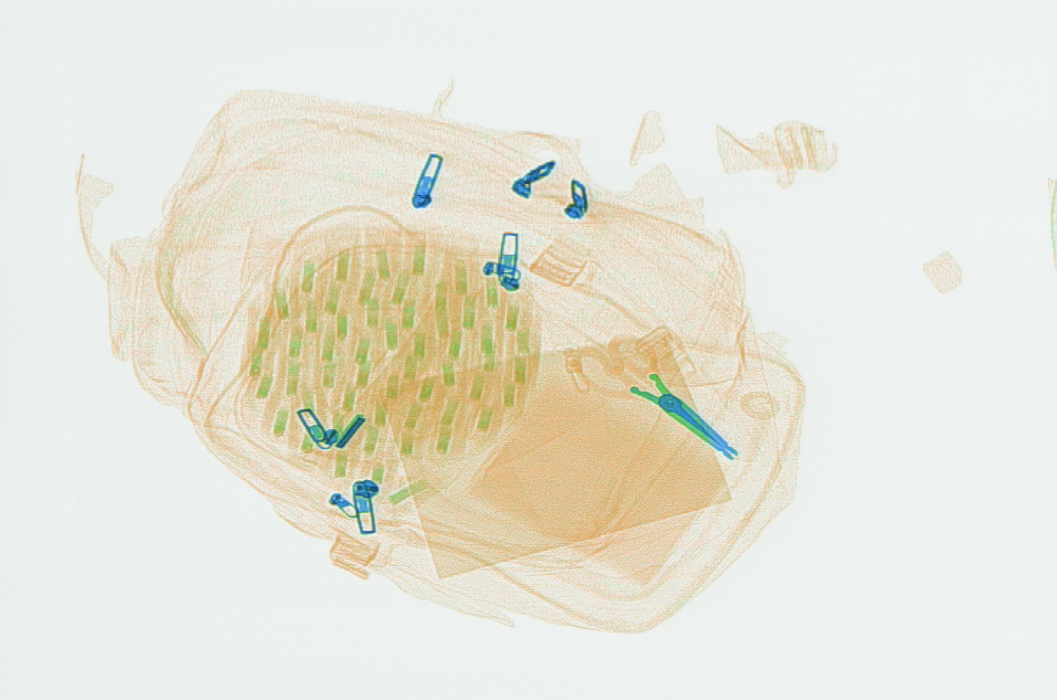firecrackers: (243, 226, 546, 505)
scissors: (567, 333, 740, 461)
